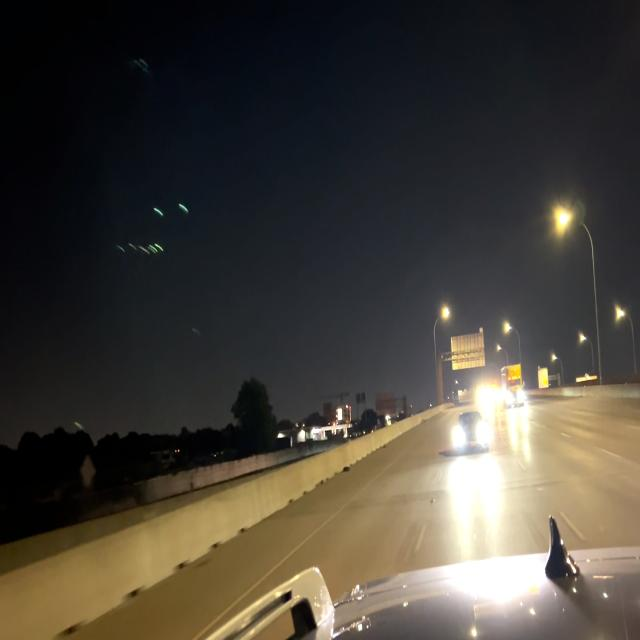back-of-sign: (450, 326, 487, 373)
